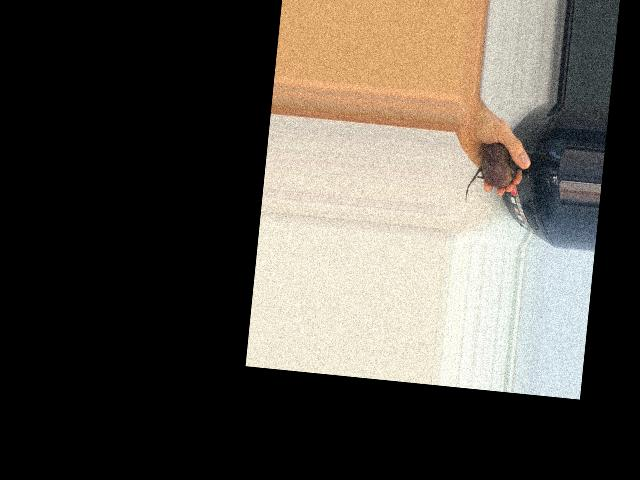beet: (464, 140, 524, 207)
